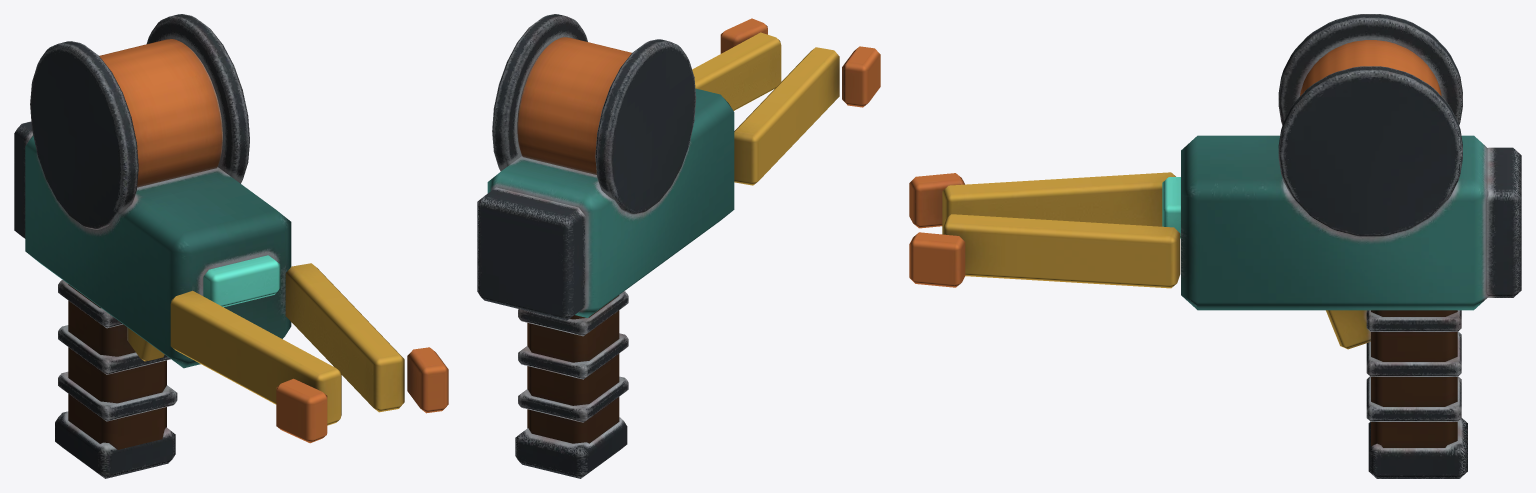
The model's file is wire_tool.glb.
3 views of the same model, side by side, from view 1: azimuth 30°, elevation 25°; view 2: azimuth 150°, elevation 25°; view 3: azimuth 270°, elevation 25° (orthographic). The views are drawn at different scales.
Parts seen in each view (by area): view 1: WireTool; view 2: WireTool; view 3: WireTool.
Part boxes in pixels (x1,y1,x2,y2): WireTool: (14,14,448,478); WireTool: (477,14,880,478); WireTool: (909,14,1521,478).
Size of the model in its own units: 0.086 by 0.2255 by 0.2966.
Materials: 1 (1 with a texture image).
